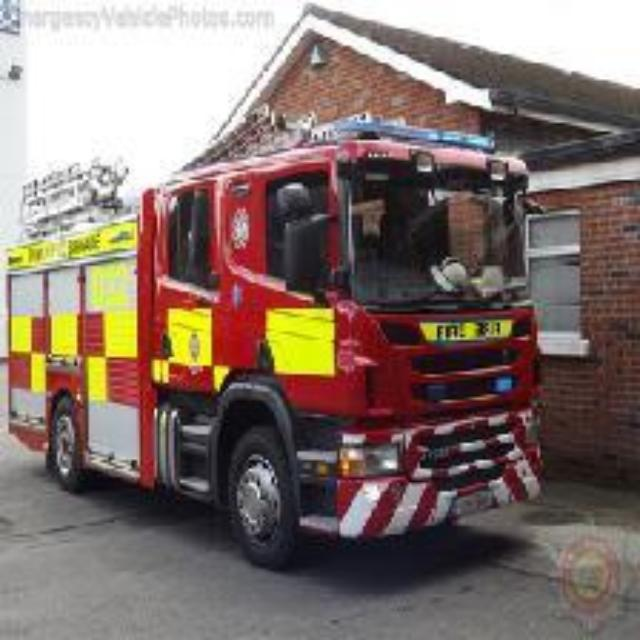emergency: (26, 132, 554, 548)
